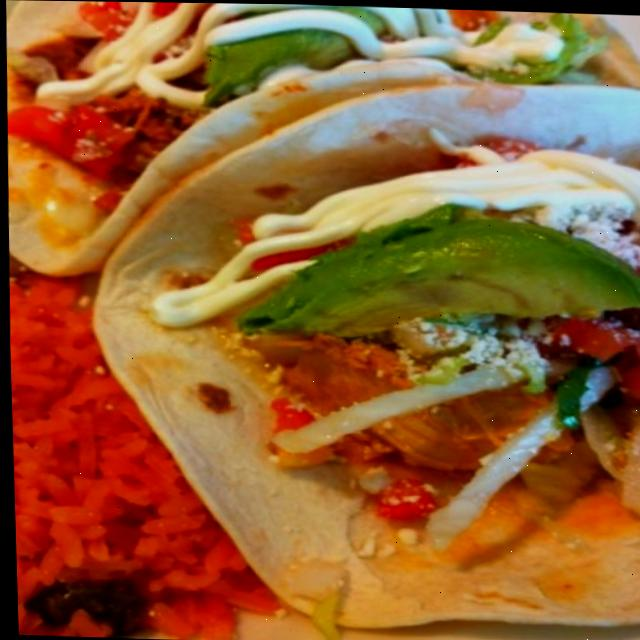面包点心: (0, 0, 640, 627)
